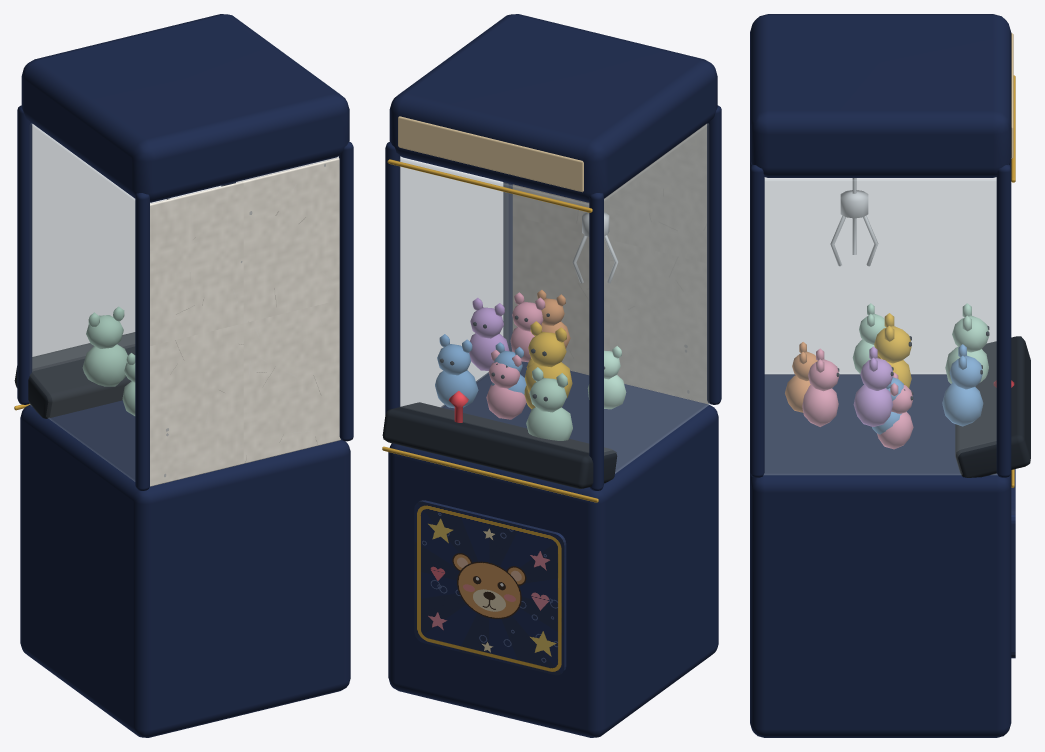
File: claw_T1.fbx
3 views of the same model, side by side, from view 1: azimuth 30°, elevation 25°; view 2: azimuth 150°, elevation 25°; view 3: azimuth 270°, elevation 25° (orthographic). The views are drawn at different scales.
Parts seen in each view (by area): view 1: Body; view 2: Body; view 3: Body.
Part boxes in pixels (x1,y1,x2,y2): Body: (14,14,353,737); Body: (382,14,721,737); Body: (750,14,1030,737).
Bounding box in the file's own units: 0.72 × 1.9 × 0.7744.
